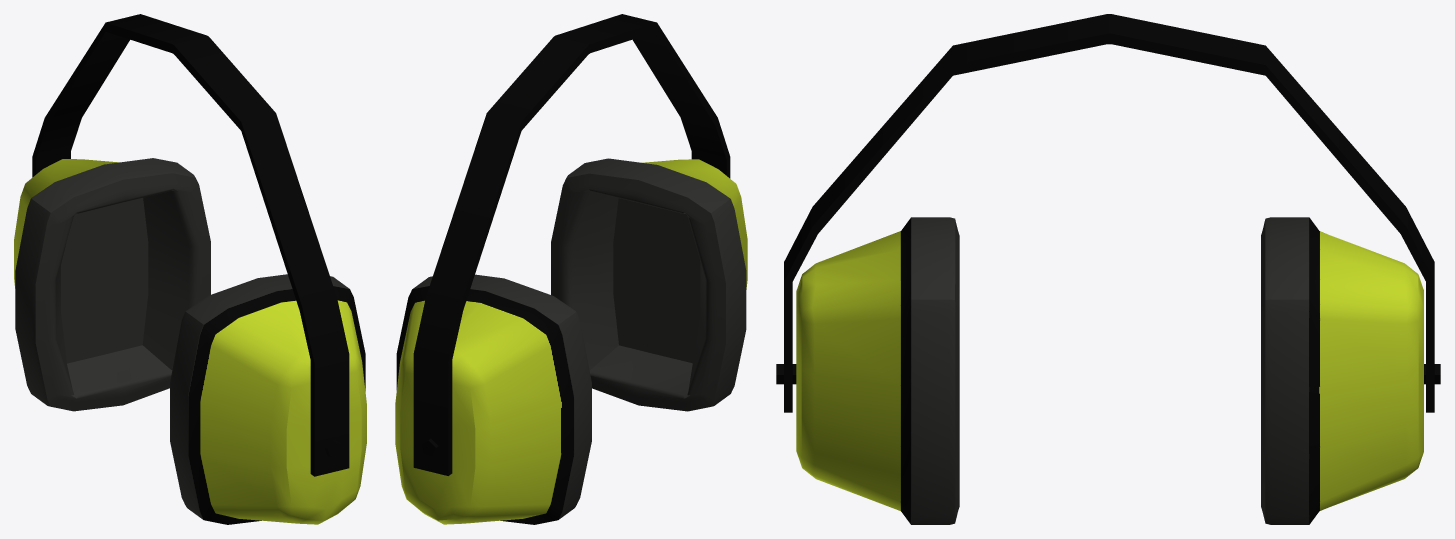
The model's file is widekuuloke.fbx.
3 renders of one model, left to right at view 1: azimuth 30°, elevation 25°; view 2: azimuth 150°, elevation 25°; view 3: azimuth 270°, elevation 25°, orthographic. The views are drawn at different scales.
Visible parts, largest first — view 1: juttu; view 2: juttu; view 3: juttu.
Boxes of the visible parts, bbox=[...] form: juttu: bbox=[14, 14, 366, 524]; juttu: bbox=[395, 14, 747, 524]; juttu: bbox=[776, 14, 1440, 524].
Bounding box in the file's own units: 10.15 × 22.7 × 28.52.
